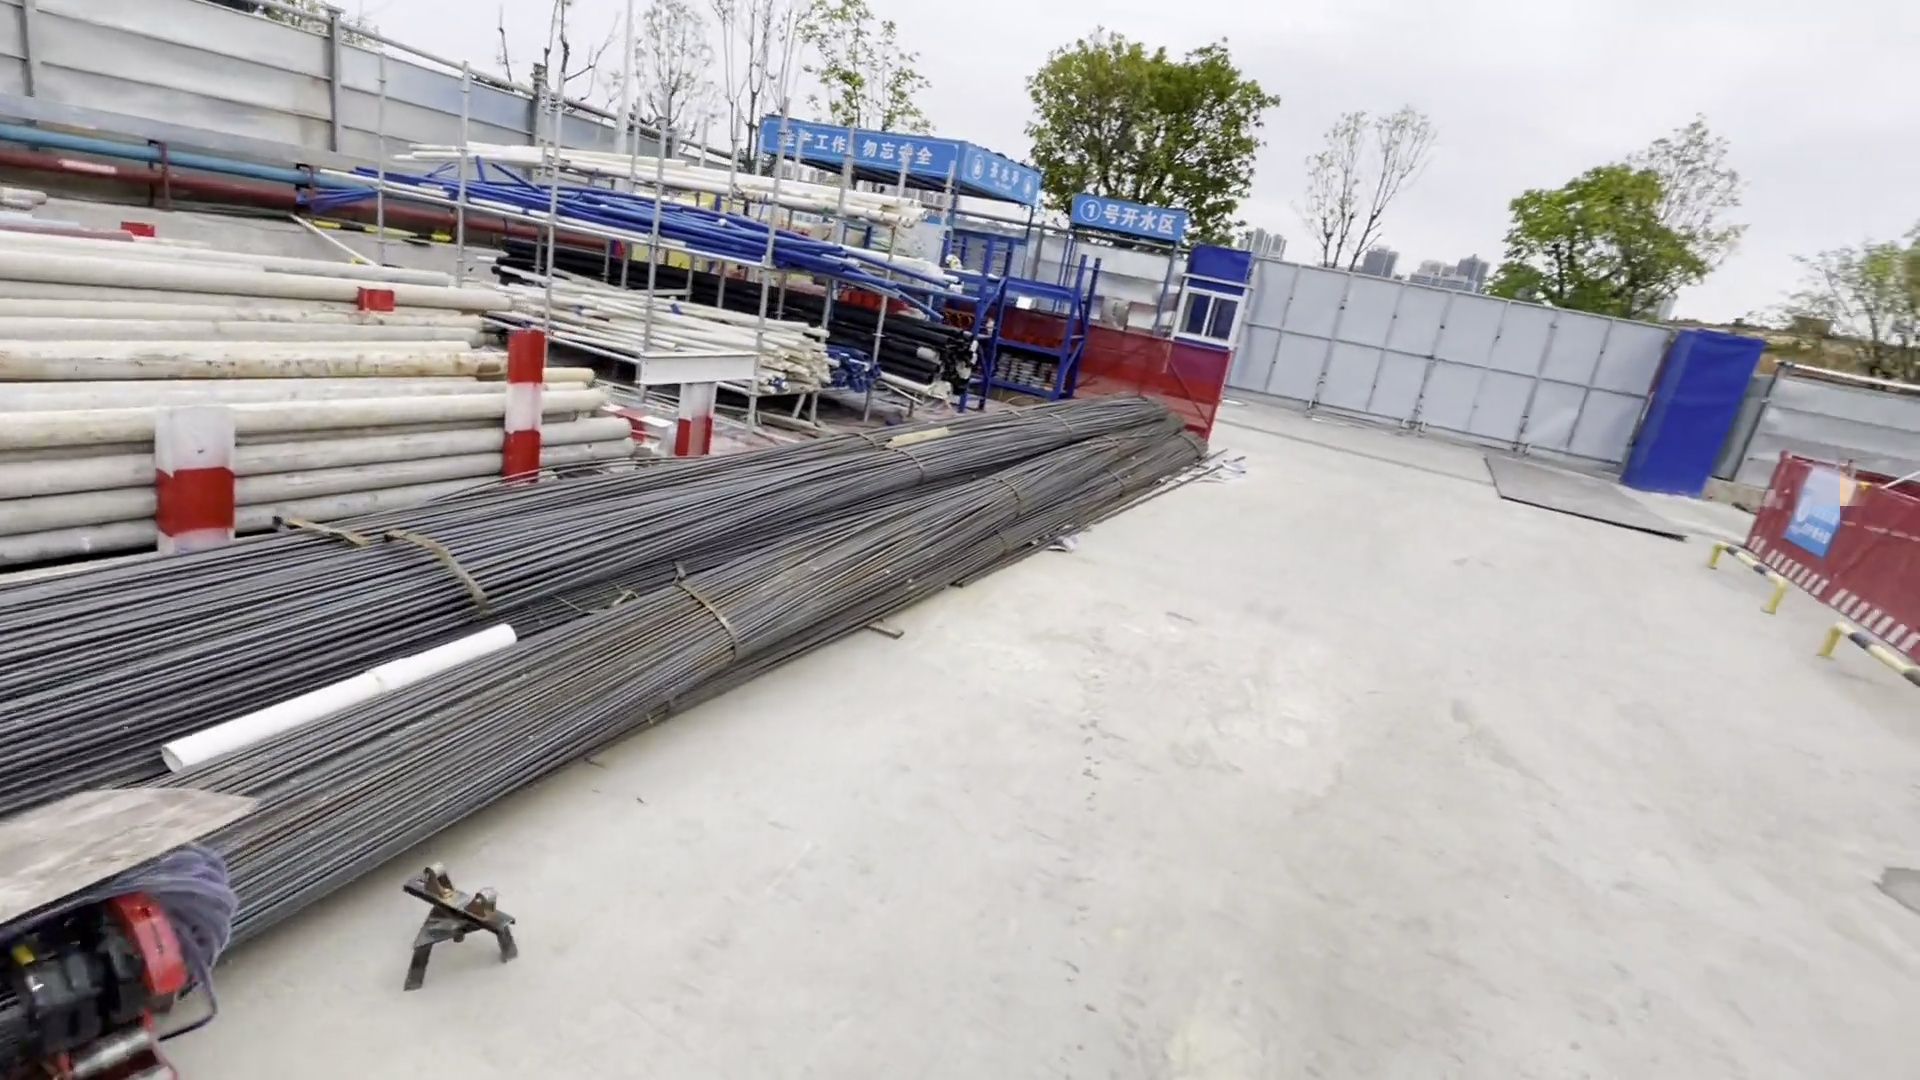fence: (1738, 455, 1920, 675), (1015, 303, 1221, 456)
rebar: (1, 398, 1211, 969)
slogan: (777, 119, 928, 174)
